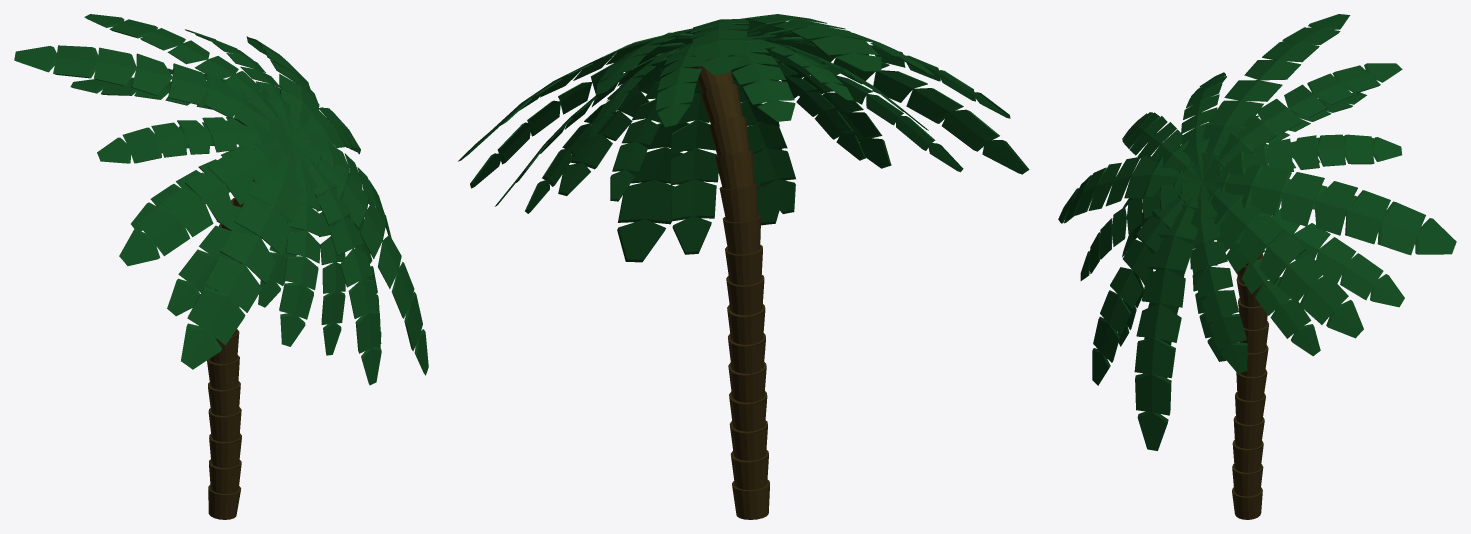
The model's file is palma2.fbx.
3 views of the same model, side by side, from view 1: azimuth 30°, elevation 25°; view 2: azimuth 150°, elevation 25°; view 3: azimuth 270°, elevation 25° (orthographic). The views are drawn at different scales.
Visible parts, largest first — view 1: palma2; view 2: palma2; view 3: palma2.
Boxes of the visible parts, x1=… form: palma2: x1=14, y1=14, x2=428, y2=519; palma2: x1=458, y1=14, x2=1029, y2=519; palma2: x1=1058, y1=14, x2=1456, y2=519.
Bounding box in the file's own units: 1401 × 1777 × 1487.
